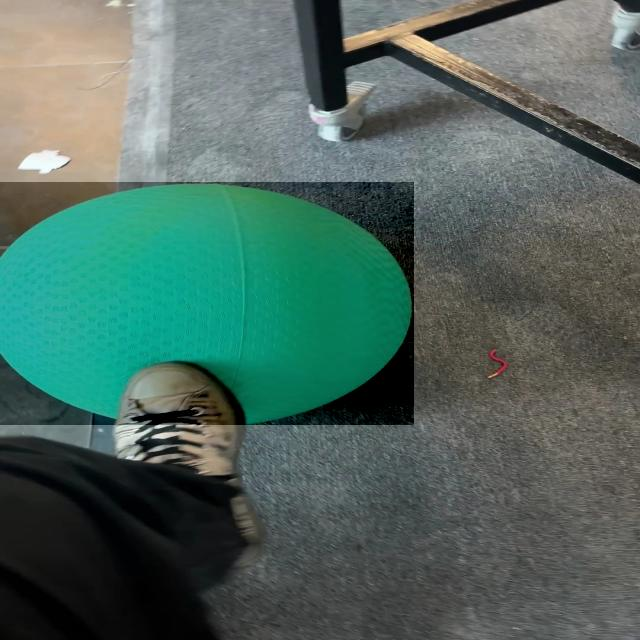Algae: (0, 182, 414, 425)
